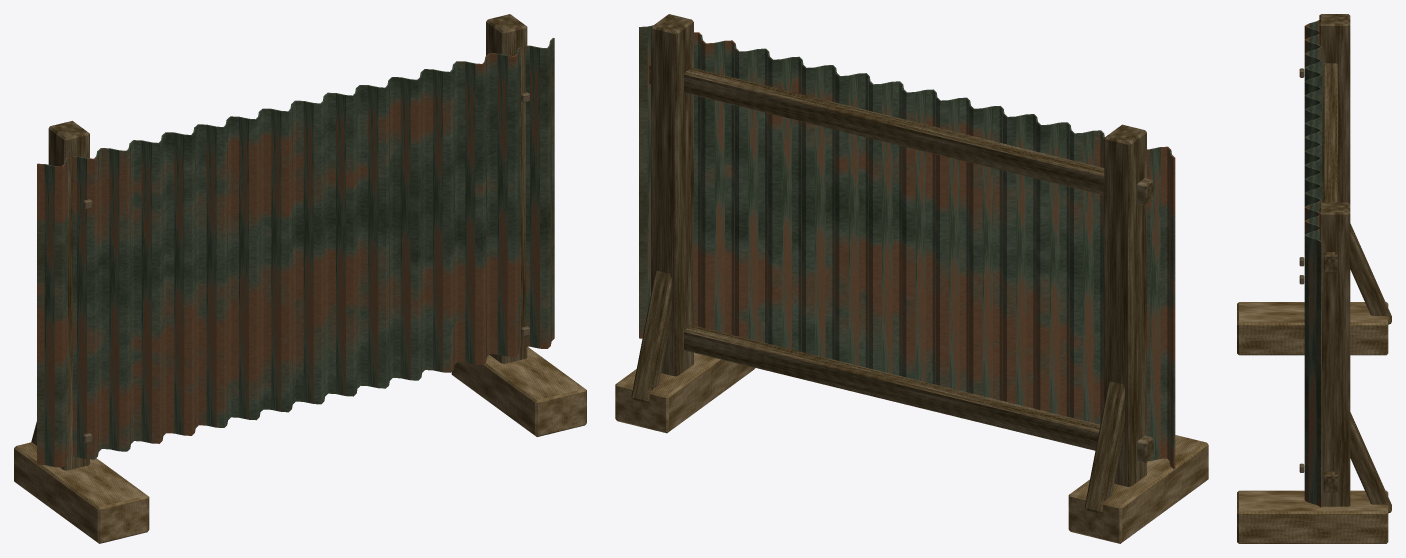
Rendered from corrugated_cover_2m.glb.
The picture shows the model from 3 angles, left to right: view 1: azimuth 30°, elevation 25°; view 2: azimuth 150°, elevation 25°; view 3: azimuth 270°, elevation 25°; orthographic projection. The views are drawn at different scales.
Visible parts, largest first — view 1: corrugated_cover_2m; view 2: corrugated_cover_2m; view 3: corrugated_cover_2m.
Part boxes in pixels (<box>): corrugated_cover_2m: <box>14,14,586,543</box>; corrugated_cover_2m: <box>615,14,1208,543</box>; corrugated_cover_2m: <box>1237,14,1391,543</box>.
Bounding box in the file's own units: 2.2 × 1.5 × 0.6448.
Materials: 1 (1 with a texture image).
